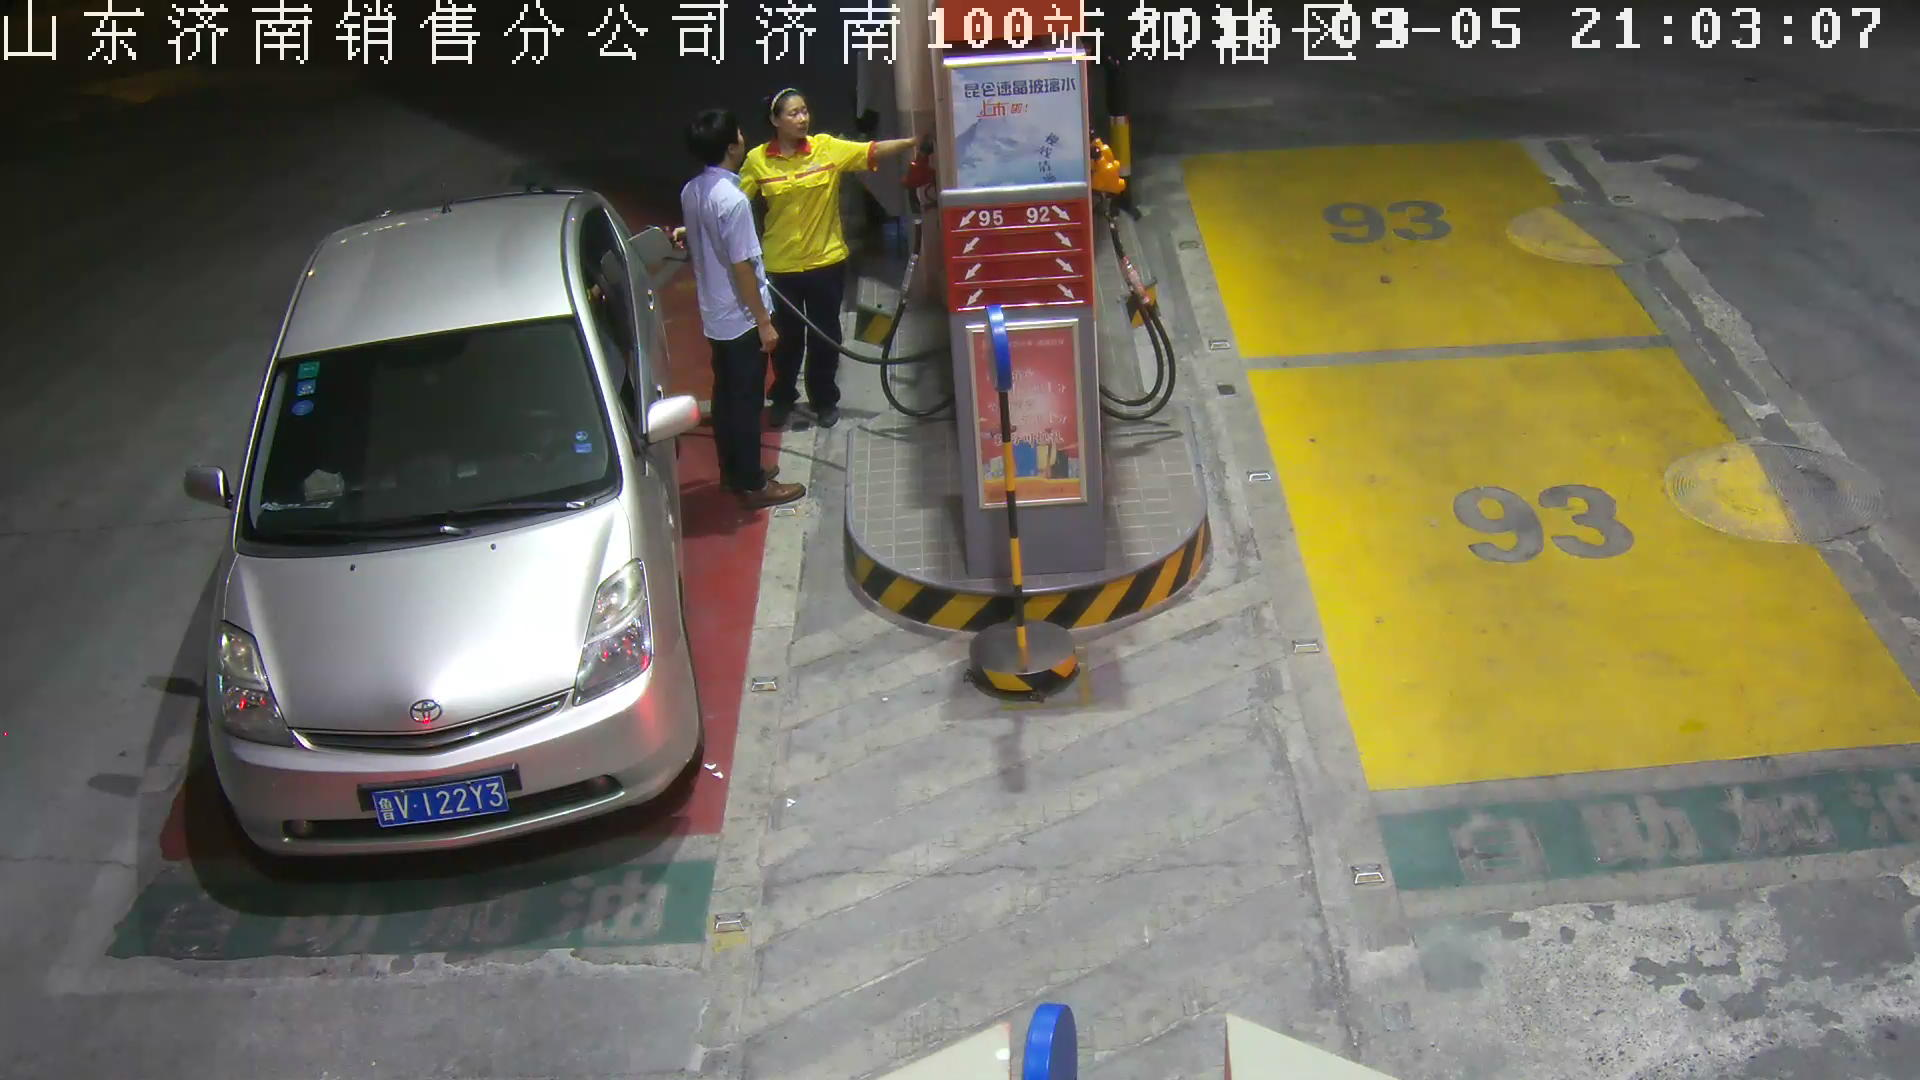blue: (371, 775, 513, 829)
